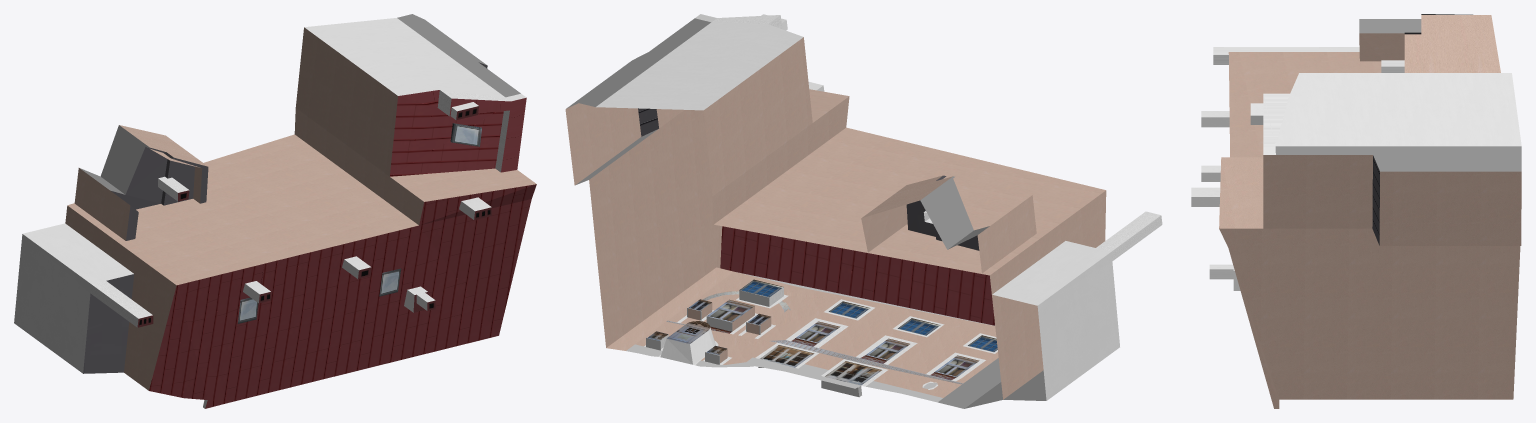
The model's file is Lyhike_jalg_4-origo.obj.
3 renders of one model, left to right at view 1: azimuth 30°, elevation 25°; view 2: azimuth 150°, elevation 25°; view 3: azimuth 270°, elevation 25°, orthographic. The views are drawn at different scales.
Visible parts, largest first — view 1: Lyhike_jalg_4; view 2: Lyhike_jalg_4; view 3: Lyhike_jalg_4.
Boxes of the visible parts, x1=… form: Lyhike_jalg_4: x1=14, y1=14, x2=536, y2=408; Lyhike_jalg_4: x1=565, y1=14, x2=1162, y2=408; Lyhike_jalg_4: x1=1191, y1=14, x2=1521, y2=408.
Bounding box in the file's own units: 25.81 × 14.5 × 15.16.
